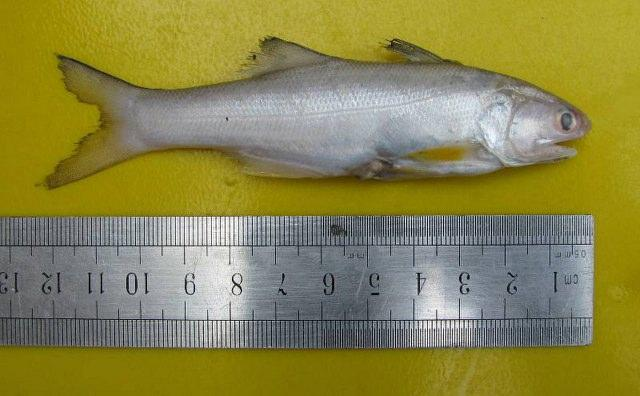Mulut: (522, 94, 616, 172)
Sirip Anal: (213, 135, 331, 199)
Sirip Dada: (395, 136, 493, 172)
Sirip Ekor: (26, 40, 186, 208)
Sirip Punggung: (222, 18, 470, 90)
